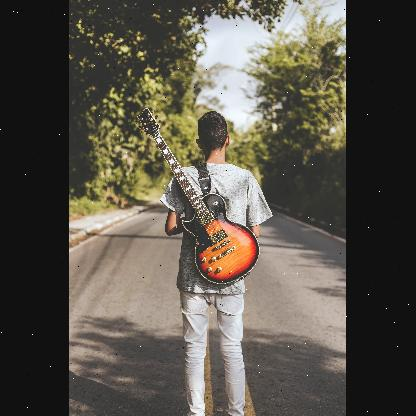guitar: (136, 106, 262, 288)
